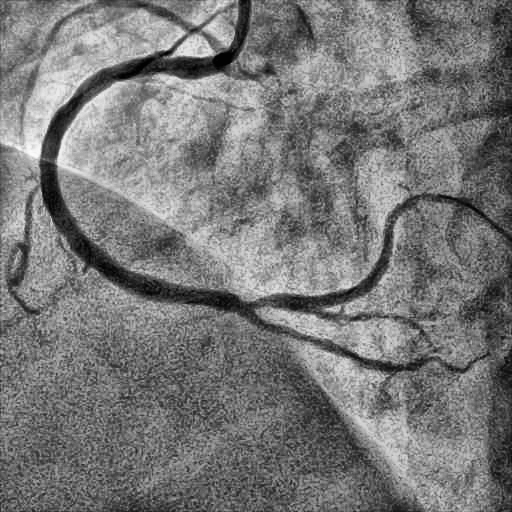pborca: (251, 193, 511, 312)
pda: (249, 314, 484, 373)
rca: (39, 56, 252, 317)
